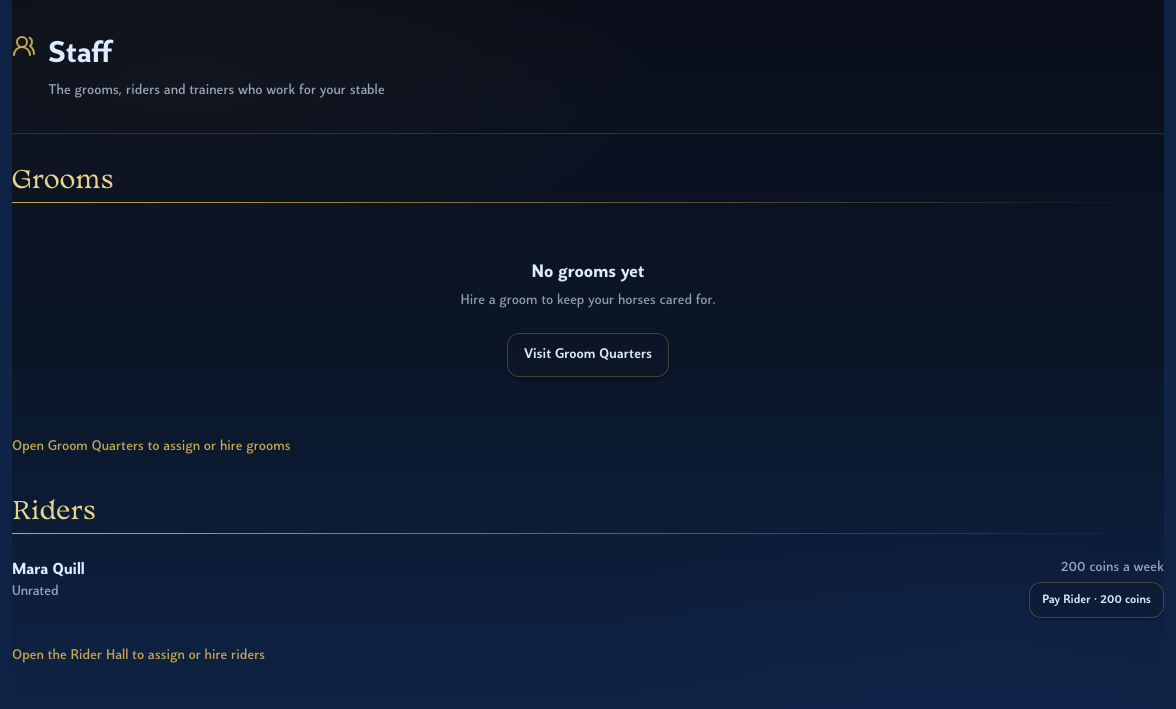
StaffPage › one click on Pay Rider pays the rider and the row updates in place
The image size is (1176, 709).
Click the button with test id "pay-rider-5" at x=1097, y=600, box x1=1029 y1=582 x2=1164 y2=618
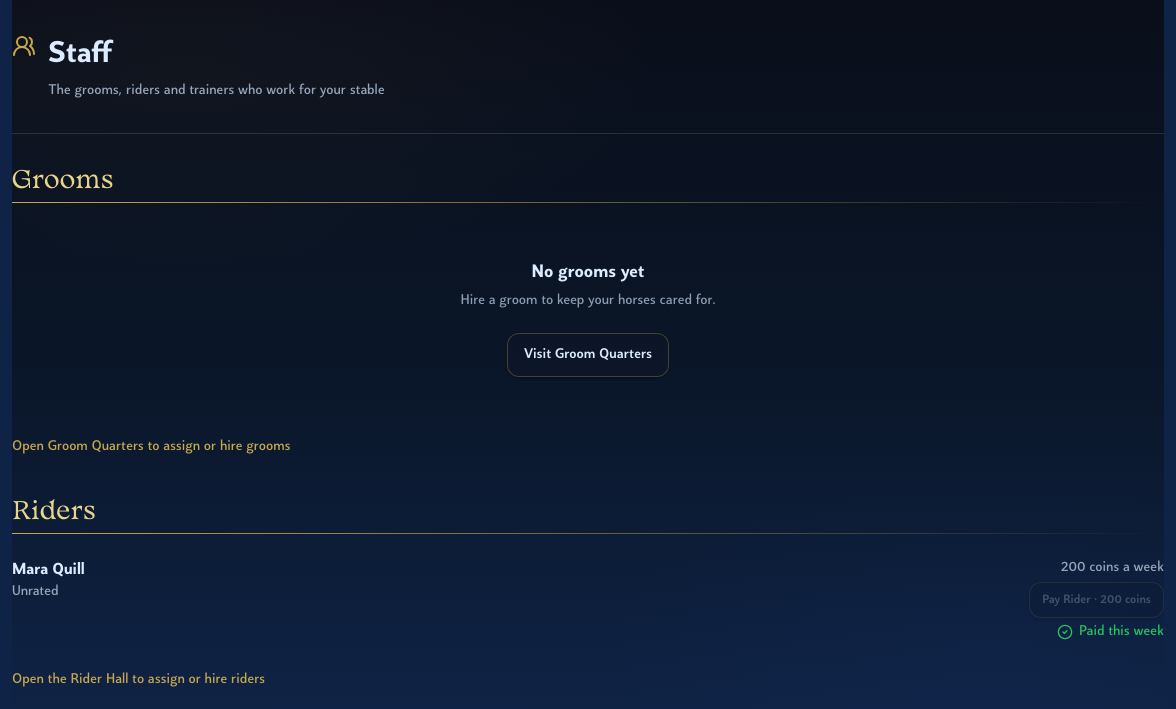
Check: the text "Paid this week" is shown, box x1=1057 y1=624 x2=1164 y2=640
Check: the button with test id "pay-rider-5" is disabled, box x1=1029 y1=582 x2=1164 y2=618
